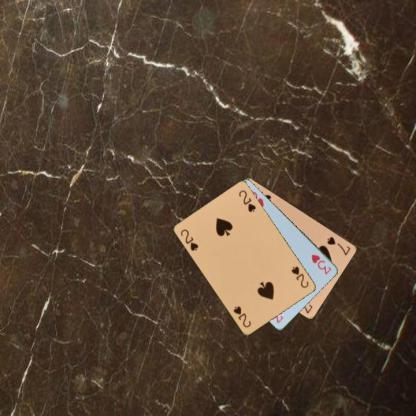2s: (178, 226, 200, 252), (289, 264, 310, 290)
3h: (309, 252, 332, 276)
7s: (325, 234, 352, 257)
